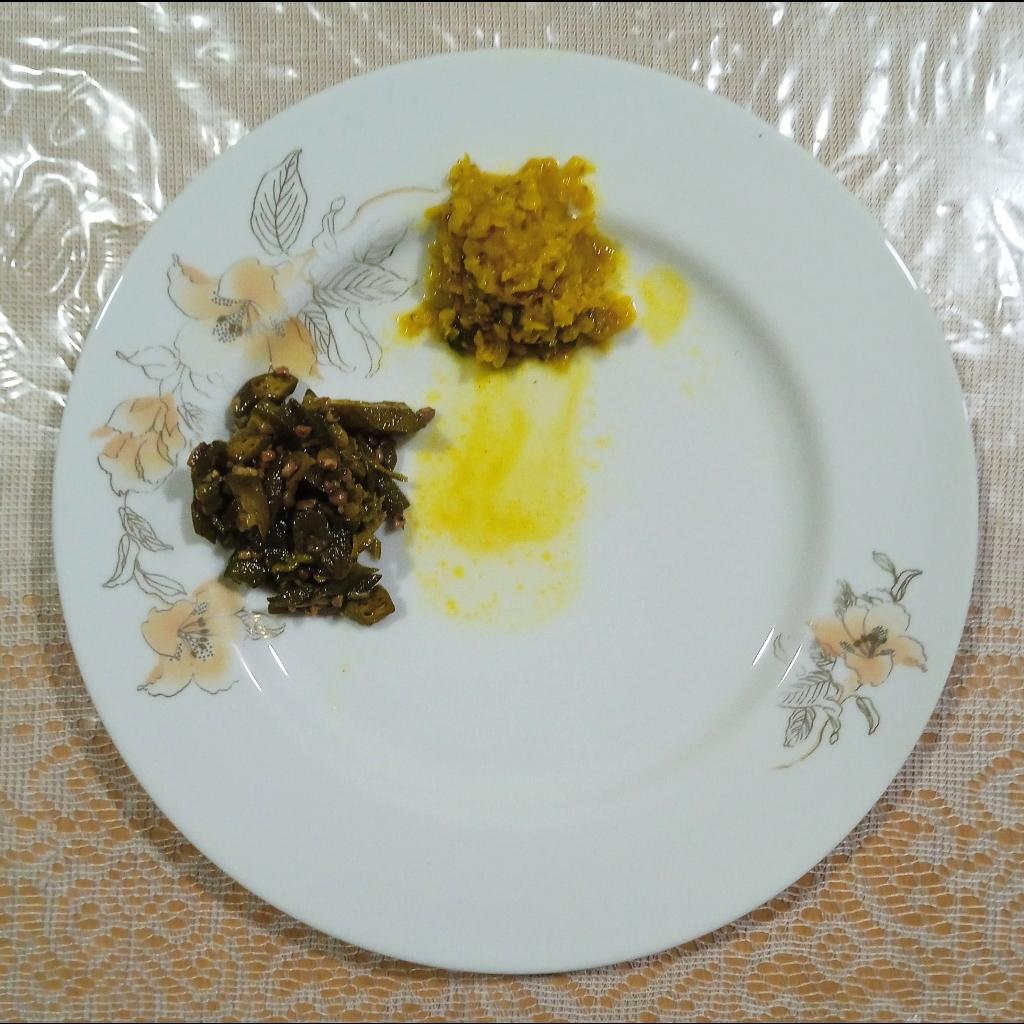daal: (424, 153, 637, 364)
okra: (186, 368, 442, 624)
